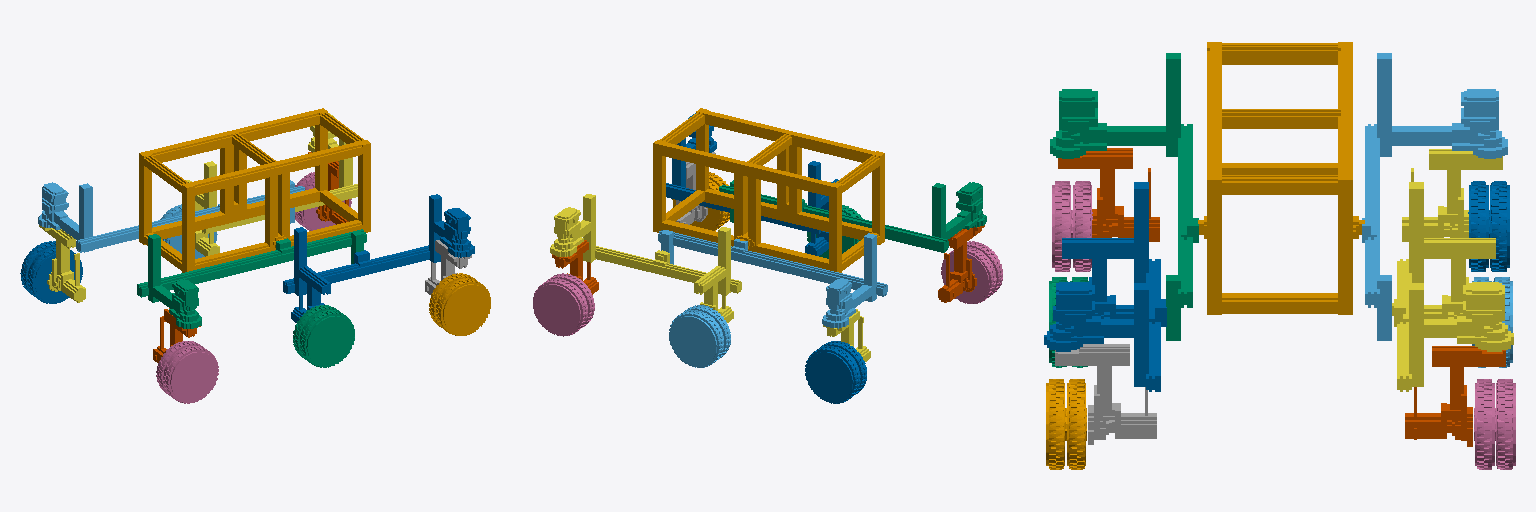
The robot description file, URDF, robot "roverv1":
<?xml version="1.0" ?>
<!-- =================================================================================== -->
<!-- |    This document was autogenerated by xacro from mrcp_trex_gripper.urdf         | -->
<!-- |    EDITING THIS FILE BY HAND IS NOT RECOMMENDED                                 | -->
<!-- =================================================================================== -->
<!-- =================================================================================== -->
<!-- |    This document was autogenerated by xacro from model.xacro                    | -->
<!-- |    EDITING THIS FILE BY HAND IS NOT RECOMMENDED                                 | -->
<!-- =================================================================================== -->
<robot name="roverv1">
  <!-- <link name="body_footprint"/> -->

<!--   <joint name="fixed" type="fixed">
    <origin rpy="0 0 0" xyz="0 0 0.3"/>
    <parent link="body_footprint"/>
    <child link="body"/>
  </joint> -->
  <link name="body">
    <inertial>
      <mass value="5"/>
      <origin rpy="0  0  0" xyz="0 0 0.125"/>
      <inertia ixx="0.02050030" ixy="0" ixz="0" iyy="0.05700340" iyz="0" izz="0.05769180"/>
    </inertial>
    <collision>
      <origin rpy="0  0  0" xyz="0 0 0"/>
      <geometry>
        <mesh filename="package://roverv1/meshes/base.STL" scale="1 1 1"/>
      </geometry>
    </collision>
    <visual>
      <origin rpy="0  0  0" xyz="0 0 0"/>
      <geometry>
        <mesh filename="package://roverv1/meshes/base.STL" scale="1 1 1"/>
      </geometry>
    </visual>
  </link>
  <link name="Right_Rocker">
    <inertial>
      <mass value="0.5"/>
      <origin rpy="0  0  0" xyz="-0.10 0.11 0"/>
      <inertia ixx="0.00335" ixy="0" ixz="0" iyy="0.0224" iyz="0" izz="0.02345"/>
    </inertial>
    <collision>
      <origin rpy="0  0  0" xyz="0 0 0"/>
      <geometry>
        <mesh filename="package://roverv1/meshes/LLArm.STL" scale="1 1 1"/>
      </geometry>
    </collision>
    <visual>
      <origin rpy="0  0  0" xyz="0 0 0"/>
      <geometry>
        <mesh filename="package://roverv1/meshes/LLArm.STL" scale="1 1 1"/>
      </geometry>
    </visual>
  </link>
  <joint name="Right_Rocker_joint" type="revolute">
    <parent link="body"/>
    <child link="Right_Rocker"/>
    <origin rpy="0 0 0" xyz="0 0.136 0.03"/>
    <axis xyz="0 1 0"/>
    <limit effort="10" lower="-0.7853" upper="0.7853" velocity="20"/>
    <dynamics damping="1" friction="1"/>
  </joint>
  <link name="Left_Rocker">
    <inertial>
      <mass value="0.5"/>
      <origin rpy="0  0  0" xyz="-0.10 -0.11 0"/>
      <inertia ixx="0.00335" ixy="0" ixz="0" iyy="0.0224" iyz="0" izz="0.02345"/>
    </inertial>
    <collision>
      <origin rpy="0  0  0" xyz="0 0 0"/>
      <geometry>
        <mesh filename="package://roverv1/meshes/RLArm.STL" scale="1 1 1"/>
      </geometry>
    </collision>
    <visual>
      <origin rpy="0  0  0" xyz="0 0 0"/>
      <geometry>
        <mesh filename="package://roverv1/meshes/RLArm.STL" scale="1 1 1"/>
      </geometry>
    </visual>
  </link>
  <joint name="Left_Rocker_joint" type="revolute">
    <parent link="body"/>
    <child link="Left_Rocker"/>
    <origin rpy="0 0 0" xyz="0 -0.136 0.03"/>
    <axis xyz="0 1 0"/>
    <limit effort="10" lower="-0.7853" upper="0.7853" velocity="20"/>
    <dynamics damping="1" friction="1"/>
  </joint>
  <link name="Right_Bogie">
    <inertial>
      <mass value="0.6"/>
      <origin rpy="0  0  0" xyz="0 0.1 0"/>
      <inertia ixx="0.00457331" ixy="0" ixz="0" iyy="0.02697040" iyz="0" izz="0.02375490"/>
    </inertial>
    <collision>
      <origin rpy="0  0  0" xyz="0 0 0"/>
      <geometry>
        <mesh filename="package://roverv1/meshes/LSArm.STL" scale="1 1 1"/>
      </geometry>
    </collision>
    <visual>
      <origin rpy="0  0  0" xyz="0 0 0"/>
      <geometry>
        <mesh filename="package://roverv1/meshes/LSArm.STL" scale="1 1 1"/>
      </geometry>
    </visual>
  </link>
  <joint name="Right_Bogie_joint" type="revolute">
    <parent link="Right_Rocker"/>
    <child link="Right_Bogie"/>
    <origin rpy="0 0 0" xyz="0.2 0.054 -0.06"/>
    <axis xyz="0 1 0"/>
    <limit effort="1" lower="-0.7853" upper="0.7853" velocity="20"/>
    <dynamics damping="1" friction="1"/>
  </joint>
  <link name="Left_Bogie">
    <inertial>
      <mass value="0.6"/>
      <origin rpy="0  0  0" xyz="0 -0.1 0"/>
      <inertia ixx="0.00457331" ixy="0" ixz="0" iyy="0.02697040" iyz="0" izz="0.02375490"/>
    </inertial>
    <collision>
      <origin rpy="0  0  0" xyz="0 0 0"/>
      <geometry>
        <mesh filename="package://roverv1/meshes/RSArm.STL" scale="1 1 1"/>
      </geometry>
    </collision>
    <visual>
      <origin rpy="0  0  0" xyz="0 0 0"/>
      <geometry>
        <mesh filename="package://roverv1/meshes/RSArm.STL" scale="1 1 1"/>
      </geometry>
    </visual>
  </link>
  <joint name="Left_Bogie_joint" type="revolute">
    <parent link="Left_Rocker"/>
    <child link="Left_Bogie"/>
    <origin rpy="0 0 0" xyz="0.2 -0.054 -0.06"/>
    <axis xyz="0 1 0"/>
    <limit effort="1" lower="-0.7853" upper="0.7853" velocity="20"/>
    <dynamics damping="1" friction="1"/>
  </joint>
  <link name="Servo4">
    <inertial>
      <mass value="0.4"/>
      <origin rpy="0  0  0" xyz="0 -0.07 -0.08"/>
      <inertia ixx="0.00160383" ixy="0" ixz="0" iyy="0.00114480" iyz="0" izz="0.00053229"/>
    </inertial>
    <collision>
      <origin rpy="0  0  0" xyz="0 0 0"/>
      <geometry>
        <mesh filename="package://roverv1/meshes/StWh1.STL" scale="1 1 1"/>
      </geometry>
    </collision>
    <visual>
      <origin rpy="0  0  0" xyz="0 0 0"/>
      <geometry>
        <mesh filename="package://roverv1/meshes/StWh1.STL" scale="1 1 1"/>
      </geometry>
    </visual>
  </link>
  <joint name="Servo4_joint" type="revolute">
    <parent link="Right_Bogie"/>
    <child link="Servo4"/>
    <origin rpy="0 0 0" xyz="0.2 0.165 0.03"/>
    <axis xyz="0 0 1"/>
    <limit effort="15" lower="-1.5708" upper="1.5708" velocity="0.2"/>
    <dynamics damping="1" friction="5"/>
  </joint>
  <link name="Wheel6">
    <inertial>
      <mass value="0.4"/>
      <origin rpy="0  0  0" xyz="0 0.04 0"/>
      <inertia ixx="0.000696" ixy="0" ixz="0" iyy="0.001044" iyz="0" izz="0.000696"/>
    </inertial>
    <collision>
      <origin rpy="0  0  0" xyz="0 0 0"/>
      <geometry>
        <mesh filename="package://roverv1/meshes/Wheel.STL" scale="1 1 1"/>
      </geometry>
    </collision>
    <visual>
      <origin rpy="0  0  0" xyz="0 0 0"/>
      <geometry>
        <mesh filename="package://roverv1/meshes/Wheel.STL" scale="1 1 1"/>
      </geometry>
    </visual>
  </link>
  <joint name="Motor6_joint" type="continuous">
    <parent link="Servo4"/>
    <child link="Wheel6"/>
    <origin rpy="0 0 0" xyz="0 -0.03 -0.142"/>
    <axis xyz="0 1 0"/>
    <limit effort="30" velocity="3"/>
    <dynamics damping="1" friction="5"/>
  </joint>
  <link name="Servo3">
    <inertial>
      <mass value="0.4"/>
      <origin rpy="0  0  0" xyz="0 -0.07 -0.08"/>
      <inertia ixx="0.00160383" ixy="0" ixz="0" iyy="0.00114480" iyz="0" izz="0.00053229"/>
    </inertial>
    <collision>
      <origin rpy="0  0  0" xyz="0 0 0"/>
      <geometry>
        <mesh filename="package://roverv1/meshes/StWh1.STL" scale="1 1 1"/>
      </geometry>
    </collision>
    <visual>
      <origin rpy="0  0  0" xyz="0 0 0"/>
      <geometry>
        <mesh filename="package://roverv1/meshes/StWh1.STL" scale="1 1 1"/>
      </geometry>
    </visual>
  </link>
  <joint name="Servo3_joint" type="revolute">
    <parent link="Left_Bogie"/>
    <child link="Servo3"/>
    <origin rpy="0 0 3.14159" xyz="0.2 -0.165 0.03"/>
    <axis xyz="0 0 1"/>
    <limit effort="15" lower="-1.5708" upper="1.5708" velocity="0.2"/>
    <dynamics damping="1" friction="5"/>
  </joint>
  <link name="Wheel5">
    <inertial>
      <mass value="0.4"/>
      <origin rpy="0  0  0" xyz="0 0.04 0"/>
      <inertia ixx="0.000696" ixy="0" ixz="0" iyy="0.001044" iyz="0" izz="0.000696"/>
    </inertial>
    <collision>
      <origin rpy="0  0  0" xyz="0 0 0"/>
      <geometry>
        <mesh filename="package://roverv1/meshes/Wheel.STL" scale="1 1 1"/>
      </geometry>
    </collision>
    <visual>
      <origin rpy="0  0  0" xyz="0 0 0"/>
      <geometry>
        <mesh filename="package://roverv1/meshes/Wheel.STL" scale="1 1 1"/>
      </geometry>
    </visual>
  </link>
  <joint name="Motor5_joint" type="continuous">
    <parent link="Servo3"/>
    <child link="Wheel5"/>
    <origin rpy="0 0 0" xyz="0 -0.03 -0.142"/>
    <axis xyz="0 1 0"/>
    <limit effort="30" velocity="3"/>
    <dynamics damping="1" friction="5"/>
  </joint>
  <link name="Wheel4">
    <inertial>
      <mass value="0.4"/>
      <origin rpy="0  0  0" xyz="0 0.04 0"/>
      <inertia ixx="0.000696" ixy="0" ixz="0" iyy="0.001044" iyz="0" izz="0.000696"/>
    </inertial>
    <collision>
      <origin rpy="0  0  0" xyz="0 0 0"/>
      <geometry>
        <mesh filename="package://roverv1/meshes/Wheel.STL" scale="1 1 1"/>
      </geometry>
    </collision>
    <visual>
      <origin rpy="0  0  0" xyz="0 0 0"/>
      <geometry>
        <mesh filename="package://roverv1/meshes/Wheel.STL" scale="1 1 1"/>
      </geometry>
    </visual>
  </link>
  <joint name="Motor4_joint" type="continuous">
    <parent link="Right_Bogie"/>
    <child link="Wheel4"/>
    <origin rpy="0 0 0" xyz="-0.200 0.130 -0.110"/>
    <axis xyz="0 1 0"/>
    <limit effort="30" velocity="3"/>
    <dynamics damping="1" friction="5"/>
  </joint>
  <link name="Wheel3">
    <inertial>
      <mass value="0.4"/>
      <origin rpy="0  0  0" xyz="0 0.04 0"/>
      <inertia ixx="0.000696" ixy="0" ixz="0" iyy="0.001044" iyz="0" izz="0.000696"/>
    </inertial>
    <collision>
      <origin rpy="0  0  0" xyz="0 0 0"/>
      <geometry>
        <mesh filename="package://roverv1/meshes/Wheel.STL" scale="1 1 1"/>
      </geometry>
    </collision>
    <visual>
      <origin rpy="0  0  0" xyz="0 0 0"/>
      <geometry>
        <mesh filename="package://roverv1/meshes/Wheel.STL" scale="1 1 1"/>
      </geometry>
    </visual>
  </link>
  <joint name="Motor3_joint" type="continuous">
    <parent link="Left_Bogie"/>
    <child link="Wheel3"/>
    <origin rpy="0 0 3.14159" xyz="-0.200 -0.130 -0.110"/>
    <axis xyz="0 1 0"/>
    <limit effort="30" velocity="3"/>
    <dynamics damping="1" friction="5"/>
  </joint>
  <link name="Servo2">
    <inertial>
      <mass value="0.4"/>
      <origin rpy="0  0  0" xyz="0 -0.07 -0.08"/>
      <inertia ixx="0.00160383" ixy="0" ixz="0" iyy="0.00114480" iyz="0" izz="0.00053229"/>
    </inertial>
    <collision>
      <origin rpy="0  0  0" xyz="0 0 0"/>
      <geometry>
        <mesh filename="package://roverv1/meshes/StWh1.STL" scale="1 1 1"/>
      </geometry>
    </collision>
    <visual>
      <origin rpy="0  0  0" xyz="0 0 0"/>
      <geometry>
        <mesh filename="package://roverv1/meshes/StWh1.STL" scale="1 1 1"/>
      </geometry>
    </visual>
  </link>
  <joint name="Servo2_joint" type="revolute">
    <parent link="Right_Rocker"/>
    <child link="Servo2"/>
    <origin rpy="0 0 0" xyz="-0.400 0.214 -0.04"/>
    <axis xyz="0 0 1"/>
    <limit effort="15" lower="-1.5708" upper="1.5708" velocity="0.2"/>
    <dynamics damping="1" friction="5"/>
  </joint>
  <link name="Wheel2">
    <inertial>
      <mass value="0.4"/>
      <origin rpy="0  0  0" xyz="0 0.04 0"/>
      <inertia ixx="0.000696" ixy="0" ixz="0" iyy="0.001044" iyz="0" izz="0.000696"/>
    </inertial>
    <collision>
      <origin rpy="0  0  0" xyz="0 0 0"/>
      <geometry>
        <mesh filename="package://roverv1/meshes/Wheel.STL" scale="1 1 1"/>
      </geometry>
    </collision>
    <visual>
      <origin rpy="0  0  0" xyz="0 0 0"/>
      <geometry>
        <mesh filename="package://roverv1/meshes/Wheel.STL" scale="1 1 1"/>
      </geometry>
    </visual>
  </link>
  <joint name="Motor2_joint" type="continuous">
    <parent link="Servo2"/>
    <child link="Wheel2"/>
    <origin rpy="0 0 0" xyz="0 -0.035 -0.140"/>
    <axis xyz="0 1 0"/>
    <limit effort="30" velocity="3"/>
    <dynamics damping="1" friction="5"/>
  </joint>
  <link name="Servo1">
    <inertial>
      <mass value="0.4"/>
      <origin rpy="0  0  0" xyz="0 -0.07 -0.08"/>
      <inertia ixx="0.00160383" ixy="0" ixz="0" iyy="0.00114480" iyz="0" izz="0.00053229"/>
    </inertial>
    <collision>
      <origin rpy="0  0  0" xyz="0 0 0"/>
      <geometry>
        <mesh filename="package://roverv1/meshes/StWh1.STL" scale="1 1 1"/>
      </geometry>
    </collision>
    <visual>
      <origin rpy="0  0  0" xyz="0 0 0"/>
      <geometry>
        <mesh filename="package://roverv1/meshes/StWh1.STL" scale="1 1 1"/>
      </geometry>
    </visual>
  </link>
  <joint name="Servo1_joint" type="revolute">
    <parent link="Left_Rocker"/>
    <child link="Servo1"/>
    <origin rpy="0 0 3.14159" xyz="-0.400 -0.214 -0.04"/>
    <axis xyz="0 0 1"/>
    <limit effort="15" lower="-1.5708" upper="1.5708" velocity="0.2"/>
    <dynamics damping="1" friction="5"/>
  </joint>
  <link name="Wheel1">
    <inertial>
      <mass value="0.4"/>
      <origin rpy="0  0  0" xyz="0 0.04 0"/>
      <inertia ixx="0.000696" ixy="0" ixz="0" iyy="0.001044" iyz="0" izz="0.000696"/>
    </inertial>
    <collision>
      <origin rpy="0  0  0" xyz="0 0 0"/>
      <geometry>
        <mesh filename="package://roverv1/meshes/Wheel.STL" scale="1 1 1"/>
      </geometry>
    </collision>
    <visual>
      <origin rpy="0  0  0" xyz="0 0 0"/>
      <geometry>
        <mesh filename="package://roverv1/meshes/Wheel.STL" scale="1 1 1"/>
      </geometry>
    </visual>
  </link>
  <joint name="Motor1_joint" type="continuous">
    <parent link="Servo1"/>
    <child link="Wheel1"/>
    <origin rpy="0 0 0" xyz="0 -0.035 -0.140"/>
    <axis xyz="0 1 0"/>
    <limit effort="30" velocity="3"/>
    <dynamics damping="1" friction="5"/>
  </joint>
  <transmission name="Right_Rocker_tran">
    <type>transmission_interface/SimpleTransmission</type>
    <joint name="Right_Rocker_joint">
      <hardwareInterface>hardware_interface/EffortJointInterface</hardwareInterface>
    </joint>
    <actuator name="Right_Rocker_motor">
      <hardwareInterface>EffortJointInterface</hardwareInterface>
      <mechanicalReduction>1</mechanicalReduction>
    </actuator>
  </transmission>
  <transmission name="Left_Rocker_tran">
    <type>transmission_interface/SimpleTransmission</type>
    <joint name="Left_Rocker_joint">
      <hardwareInterface>hardware_interface/EffortJointInterface</hardwareInterface>
    </joint>
    <actuator name="Left_Rocker_motor">
      <hardwareInterface>EffortJointInterface</hardwareInterface>
      <mechanicalReduction>1</mechanicalReduction>
    </actuator>
  </transmission>
  <transmission name="Right_Bogie_tran">
    <type>transmission_interface/SimpleTransmission</type>
    <joint name="Right_Bogie_joint">
      <hardwareInterface>hardware_interface/EffortJointInterface</hardwareInterface>
    </joint>
    <actuator name="Right_Bogie_motor">
      <hardwareInterface>EffortJointInterface</hardwareInterface>
      <mechanicalReduction>1</mechanicalReduction>
    </actuator>
  </transmission>
  <transmission name="Left_Bogie_tran">
    <type>transmission_interface/SimpleTransmission</type>
    <joint name="Left_Bogie_joint">
      <hardwareInterface>hardware_interface/EffortJointInterface</hardwareInterface>
    </joint>
    <actuator name="Left_Bogie_motor">
      <hardwareInterface>EffortJointInterface</hardwareInterface>
      <mechanicalReduction>1</mechanicalReduction>
    </actuator>
  </transmission>
  <transmission name="Servo4_tran">
    <type>transmission_interface/SimpleTransmission</type>
    <joint name="Servo4_joint">
      <hardwareInterface>hardware_interface/EffortJointInterface</hardwareInterface>
    </joint>
    <actuator name="Servo4_motor">
      <hardwareInterface>EffortJointInterface</hardwareInterface>
      <mechanicalReduction>1</mechanicalReduction>
    </actuator>
  </transmission>
  <transmission name="Servo3_tran">
    <type>transmission_interface/SimpleTransmission</type>
    <joint name="Servo3_joint">
      <hardwareInterface>hardware_interface/EffortJointInterface</hardwareInterface>
    </joint>
    <actuator name="Servo3_motor">
      <hardwareInterface>EffortJointInterface</hardwareInterface>
      <mechanicalReduction>1</mechanicalReduction>
    </actuator>
  </transmission>
  <transmission name="Servo2_tran">
    <type>transmission_interface/SimpleTransmission</type>
    <joint name="Servo2_joint">
      <hardwareInterface>hardware_interface/EffortJointInterface</hardwareInterface>
    </joint>
    <actuator name="Servo2_motor">
      <hardwareInterface>EffortJointInterface</hardwareInterface>
      <mechanicalReduction>1</mechanicalReduction>
    </actuator>
  </transmission>
  <transmission name="Servo1_tran">
    <type>transmission_interface/SimpleTransmission</type>
    <joint name="Servo1_joint">
      <hardwareInterface>hardware_interface/EffortJointInterface</hardwareInterface>
    </joint>
    <actuator name="Servo1_motor">
      <hardwareInterface>EffortJointInterface</hardwareInterface>
      <mechanicalReduction>1</mechanicalReduction>
    </actuator>
  </transmission>
  <transmission name="Motor6_tran">
    <type>transmission_interface/SimpleTransmission</type>
    <joint name="Motor6_joint">
      <hardwareInterface>hardware_interface/EffortJointInterface</hardwareInterface>
    </joint>
    <actuator name="Motor6_motor">
      <hardwareInterface>EffortJointInterface</hardwareInterface>
      <mechanicalReduction>1</mechanicalReduction>
    </actuator>
  </transmission>
  <transmission name="Motor5_tran">
    <type>transmission_interface/SimpleTransmission</type>
    <joint name="Motor5_joint">
      <hardwareInterface>hardware_interface/EffortJointInterface</hardwareInterface>
    </joint>
    <actuator name="Motor5_motor">
      <hardwareInterface>EffortJointInterface</hardwareInterface>
      <mechanicalReduction>1</mechanicalReduction>
    </actuator>
  </transmission>
  <transmission name="Motor4_tran">
    <type>transmission_interface/SimpleTransmission</type>
    <joint name="Motor4_joint">
      <hardwareInterface>hardware_interface/EffortJointInterface</hardwareInterface>
    </joint>
    <actuator name="Motor4_motor">
      <hardwareInterface>EffortJointInterface</hardwareInterface>
      <mechanicalReduction>1</mechanicalReduction>
    </actuator>
  </transmission>
  <transmission name="Motor3_tran">
    <type>transmission_interface/SimpleTransmission</type>
    <joint name="Motor3_joint">
      <hardwareInterface>hardware_interface/EffortJointInterface</hardwareInterface>
    </joint>
    <actuator name="Motor3_motor">
      <hardwareInterface>EffortJointInterface</hardwareInterface>
      <mechanicalReduction>1</mechanicalReduction>
    </actuator>
  </transmission>
  <transmission name="Motor2_tran">
    <type>transmission_interface/SimpleTransmission</type>
    <joint name="Motor2_joint">
      <hardwareInterface>hardware_interface/EffortJointInterface</hardwareInterface>
    </joint>
    <actuator name="Motor2_motor">
      <hardwareInterface>EffortJointInterface</hardwareInterface>
      <mechanicalReduction>1</mechanicalReduction>
    </actuator>
  </transmission>
  <transmission name="Motor1_tran">
    <type>transmission_interface/SimpleTransmission</type>
    <joint name="Motor1_joint">
      <hardwareInterface>hardware_interface/EffortJointInterface</hardwareInterface>
    </joint>
    <actuator name="Motor1_motor">
      <hardwareInterface>EffortJointInterface</hardwareInterface>
      <mechanicalReduction>1</mechanicalReduction>
    </actuator>
  </transmission>
  <gazebo>
    <plugin filename="libgazebo_ros_control.so" name="gazebo_ros_control">
      <robotNamespace>/roverv1</robotNamespace>
    </plugin>
  </gazebo>
  <!--<gazebo reference="body_footprint">
    <turnGravityOff>false</turnGravityOff>
  </gazebo> -->
  <gazebo reference="Wheel1">
    <mu1 value="5"/>
    <!-- Columb friction coefficient in fdir1 direction -->
    <mu2 value="1"/>
    <!-- Columb friction in perpendicular direction to fdir1 -->
    <kp value="2000000"/>
    <!-- contact stiffness -->
    <kd value="1.0"/>
    <!-- contact damping -->
    <material>Gazebo/Grey</material>
  </gazebo>
  <gazebo reference="Wheel2">
    <mu1 value="5"/>
    <!-- Columb friction coefficient in fdir1 direction -->
    <mu2 value="1"/>
    <!-- Columb friction in perpendicular direction to fdir1 -->
    <kp value="2000000"/>
    <!-- contact stiffness -->
    <kd value="1.0"/>
    <!-- contact damping -->
    <material>Gazebo/Grey</material>
  </gazebo>
  <gazebo reference="Wheel3">
    <mu1 value="5"/>
    <!-- Columb friction coefficient in fdir1 direction -->
    <mu2 value="1"/>
    <!-- Columb friction in perpendicular direction to fdir1 -->
    <kp value="2000000"/>
    <!-- contact stiffness -->
    <kd value="1.0"/>
    <!-- contact damping -->
    <material>Gazebo/Grey</material>
  </gazebo>
  <gazebo reference="Wheel4">
    <mu1 value="5"/>
    <!-- Columb friction coefficient in fdir1 direction -->
    <mu2 value="1"/>
    <!-- Columb friction in perpendicular direction to fdir1 -->
    <kp value="2000000"/>
    <!-- contact stiffness -->
    <kd value="1.0"/>
    <!-- contact damping -->
    <material>Gazebo/Grey</material>
  </gazebo>
  <gazebo reference="Wheel5">
    <mu1 value="5"/>
    <!-- Columb friction coefficient in fdir1 direction -->
    <mu2 value="1"/>
    <!-- Columb friction in perpendicular direction to fdir1 -->
    <kp value="2000000"/>
    <!-- contact stiffness -->
    <kd value="1.0"/>
    <!-- contact damping -->
    <material>Gazebo/Grey</material>
  </gazebo>
  <gazebo reference="Wheel6">
    <mu1 value="5"/>
    <!-- Columb friction coefficient in fdir1 direction -->
    <mu2 value="1"/>
    <!-- Columb friction in perpendicular direction to fdir1 -->
    <kp value="2000000"/>
    <!-- contact stiffness -->
    <kd value="1.0"/>
    <!-- contact damping -->
    <material>Gazebo/Grey</material>
  </gazebo>
</robot>

--- Render facts (derived) ---
The picture shows the robot from 3 angles, left to right: view 1: azimuth 30°, elevation 25°; view 2: azimuth 150°, elevation 25°; view 3: azimuth 270°, elevation 25°; orthographic projection.
Robot: roverv1 — 15 links, 14 joints (8 revolute, 6 continuous); root link body; default pose: every joint at zero.
Links seen in each view (by area): view 1: body, Left_Bogie, Left_Rocker, Right_Rocker, Wheel1, Wheel5, Wheel3, Right_Bogie, Wheel2, Servo2, Servo3, Wheel6 (+2 smaller); view 2: body, Right_Bogie, Right_Rocker, Left_Rocker, Wheel2, Wheel4, Wheel6, Left_Bogie, Wheel1, Servo1, Servo4, Servo2 (+2 smaller); view 3: body, Left_Bogie, Right_Bogie, Left_Rocker, Right_Rocker, Servo3, Servo4, Wheel6, Wheel5, Servo1, Servo2, Wheel2 (+3 smaller).
Boxes of the visible links, x1=… form: body: x1=139, y1=108, x2=370, y2=272; Left_Bogie: x1=283, y1=194, x2=474, y2=322; Left_Rocker: x1=137, y1=229, x2=366, y2=328; Right_Rocker: x1=38, y1=180, x2=304, y2=252; Wheel1: x1=156, y1=341, x2=218, y2=403; Wheel5: x1=429, y1=273, x2=490, y2=335; Wheel3: x1=293, y1=305, x2=354, y2=367; Right_Bogie: x1=186, y1=113, x2=357, y2=256; Wheel2: x1=20, y1=241, x2=82, y2=303; Servo2: x1=39, y1=225, x2=85, y2=302; Servo3: x1=425, y1=240, x2=471, y2=294; Wheel6: x1=295, y1=172, x2=351, y2=230; body: x1=653, y1=108, x2=884, y2=272; Right_Bogie: x1=550, y1=194, x2=741, y2=322; Right_Rocker: x1=658, y1=230, x2=887, y2=328; Left_Rocker: x1=719, y1=180, x2=986, y2=252; Wheel2: x1=805, y1=341, x2=866, y2=403; Wheel4: x1=669, y1=305, x2=730, y2=367; Wheel6: x1=533, y1=273, x2=594, y2=336; Left_Bogie: x1=666, y1=113, x2=838, y2=255; Wheel1: x1=941, y1=241, x2=1002, y2=303; Servo1: x1=938, y1=225, x2=984, y2=302; Servo4: x1=552, y1=240, x2=598, y2=294; Servo2: x1=823, y1=309, x2=870, y2=361; body: x1=1198, y1=42, x2=1364, y2=314; Left_Bogie: x1=1044, y1=182, x2=1166, y2=391; Right_Bogie: x1=1392, y1=182, x2=1513, y2=391; Left_Rocker: x1=1050, y1=53, x2=1198, y2=340; Right_Rocker: x1=1362, y1=53, x2=1507, y2=340; Servo3: x1=1055, y1=344, x2=1156, y2=444; Servo4: x1=1405, y1=346, x2=1505, y2=446; Wheel6: x1=1474, y1=379, x2=1515, y2=469; Wheel5: x1=1046, y1=379, x2=1086, y2=469; Servo1: x1=1058, y1=148, x2=1159, y2=241; Servo2: x1=1402, y1=149, x2=1502, y2=241; Wheel2: x1=1468, y1=181, x2=1509, y2=271.
Size in the robot's own frame: 0.9527 by 0.7879 by 0.476 metres.
15 mesh visuals loaded from 7 distinct referenced files (7 binary STL).